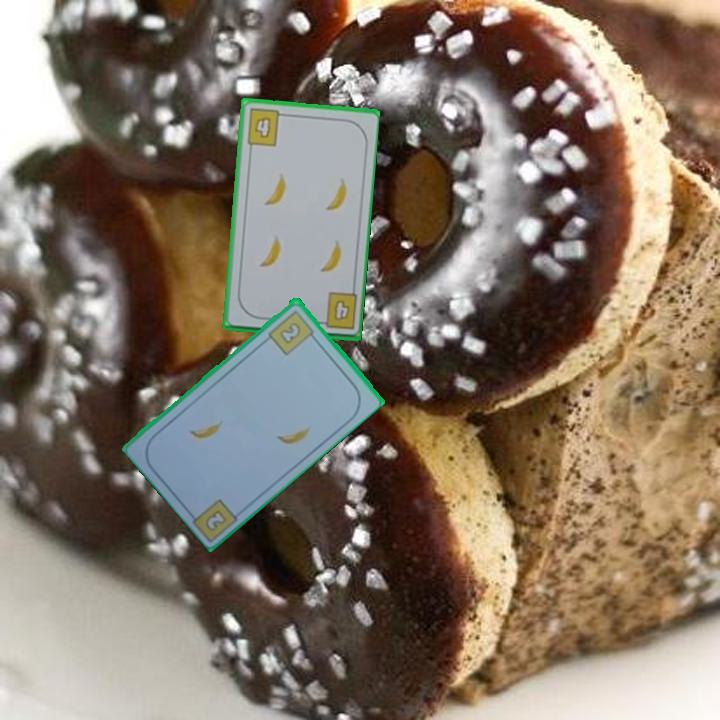2b: (265, 306, 319, 358), (201, 506, 229, 534)
4b: (243, 105, 288, 149), (313, 289, 359, 332)
